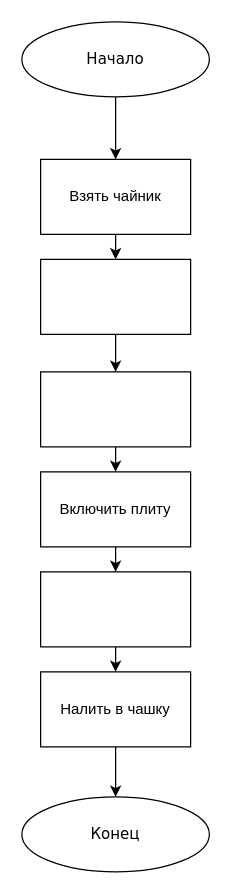
The diagram is 231 pixels wide and 894 high, and some of its shapes have lost their labels. The shapes that lost their labels are listed below. From the top down, each one's box as (x1, y1, x2, y2) in pixels, then its label:
(39, 258, 191, 334): Налить воду
(39, 371, 191, 447): Поставить на плиту
(39, 571, 191, 647): Дождаться закипления
